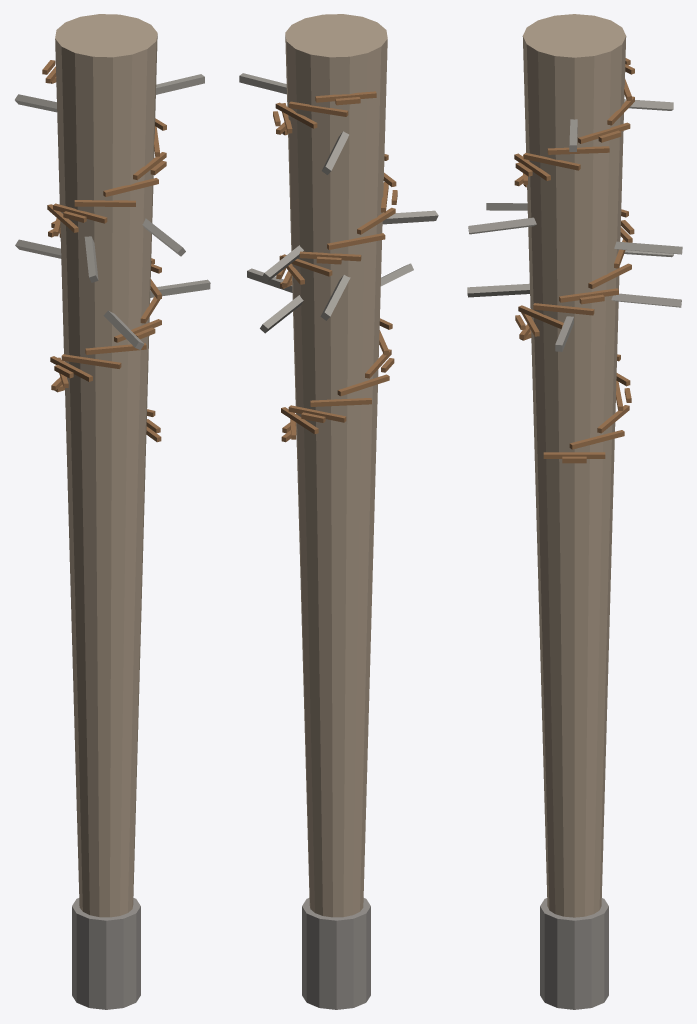
The model's file is taco_pregos.glb.
3 renders of one model, left to right at view 1: azimuth 30°, elevation 25°; view 2: azimuth 150°, elevation 25°; view 3: azimuth 270°, elevation 25°, orthographic.
Parts seen in each view (by area): view 1: taco_pregos_madeira, Cylinder, taco_pregos_arame, taco_pregos_pregos; view 2: taco_pregos_madeira, taco_pregos_arame, Cylinder, taco_pregos_pregos; view 3: taco_pregos_madeira, taco_pregos_arame, Cylinder, taco_pregos_pregos.
Part boxes in pixels (<box>): taco_pregos_madeira: <box>55,14,157,917</box>; Cylinder: <box>72,898,140,1009</box>; taco_pregos_arame: <box>42,60,166,442</box>; taco_pregos_pregos: <box>15,74,210,349</box>; taco_pregos_madeira: <box>285,14,387,917</box>; taco_pregos_arame: <box>273,91,397,442</box>; Cylinder: <box>302,898,370,1009</box>; taco_pregos_pregos: <box>239,73,438,333</box>; taco_pregos_madeira: <box>522,14,626,917</box>; taco_pregos_arame: <box>514,58,634,463</box>; Cylinder: <box>540,898,608,1009</box>; taco_pregos_pregos: <box>467,99,682,351</box>.
Size of the model in its own units: 0.1461 by 0.86 by 0.1749.
